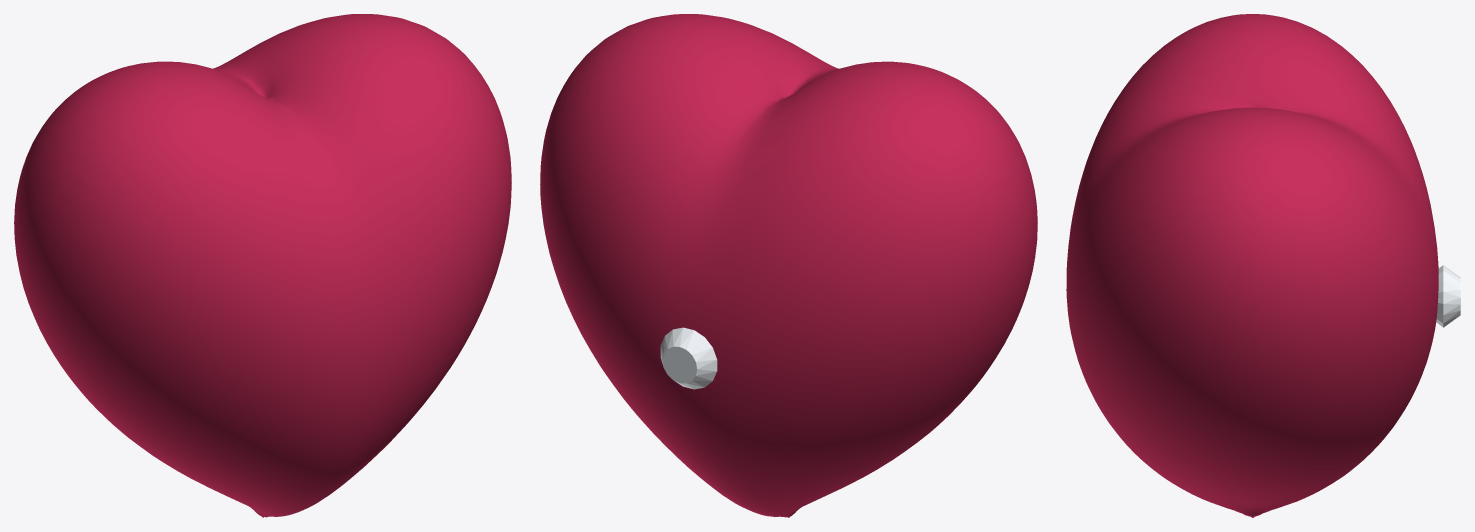
Rendered from coracao.glb.
The picture shows the model from 3 angles, left to right: view 1: azimuth 30°, elevation 25°; view 2: azimuth 150°, elevation 25°; view 3: azimuth 270°, elevation 25°; orthographic projection. The views are drawn at different scales.
Visible parts, largest first — view 1: Coracao; view 2: Coracao, Diamante; view 3: Coracao, Diamante.
Boxes of the visible parts, x1,y1,x2,y2 form: Coracao: [14, 14, 511, 517]; Coracao: [540, 14, 1037, 517]; Diamante: [660, 327, 717, 389]; Coracao: [1066, 14, 1438, 517]; Diamante: [1436, 265, 1460, 327].
Size of the model in its own units: 2.05 by 2 by 1.61.
